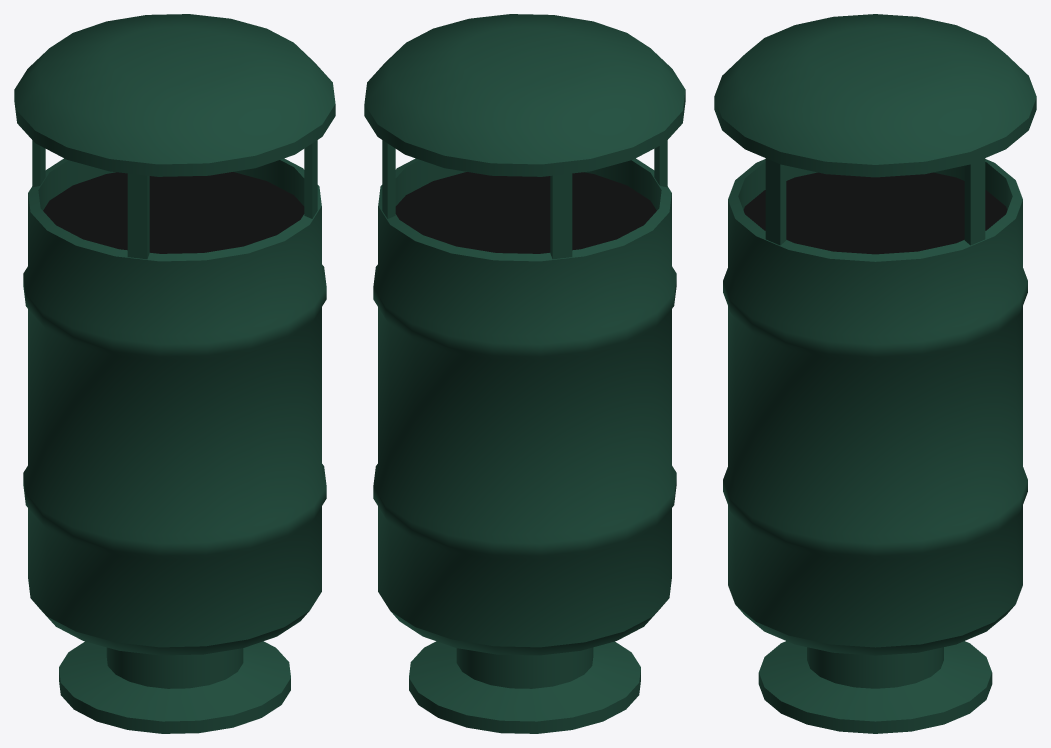
Rendered from trash-bin.glb.
3 renders of one model, left to right at view 1: azimuth 30°, elevation 25°; view 2: azimuth 150°, elevation 25°; view 3: azimuth 270°, elevation 25°, orthographic.
Visible parts, largest first — view 1: trash-bin; view 2: trash-bin; view 3: trash-bin.
Boxes of the visible parts, x1,y1,x2,y2 form: trash-bin: (14, 14, 335, 733); trash-bin: (364, 14, 685, 733); trash-bin: (714, 14, 1036, 733).
Size of the model in its own units: 0.47 by 1.01 by 0.47.
